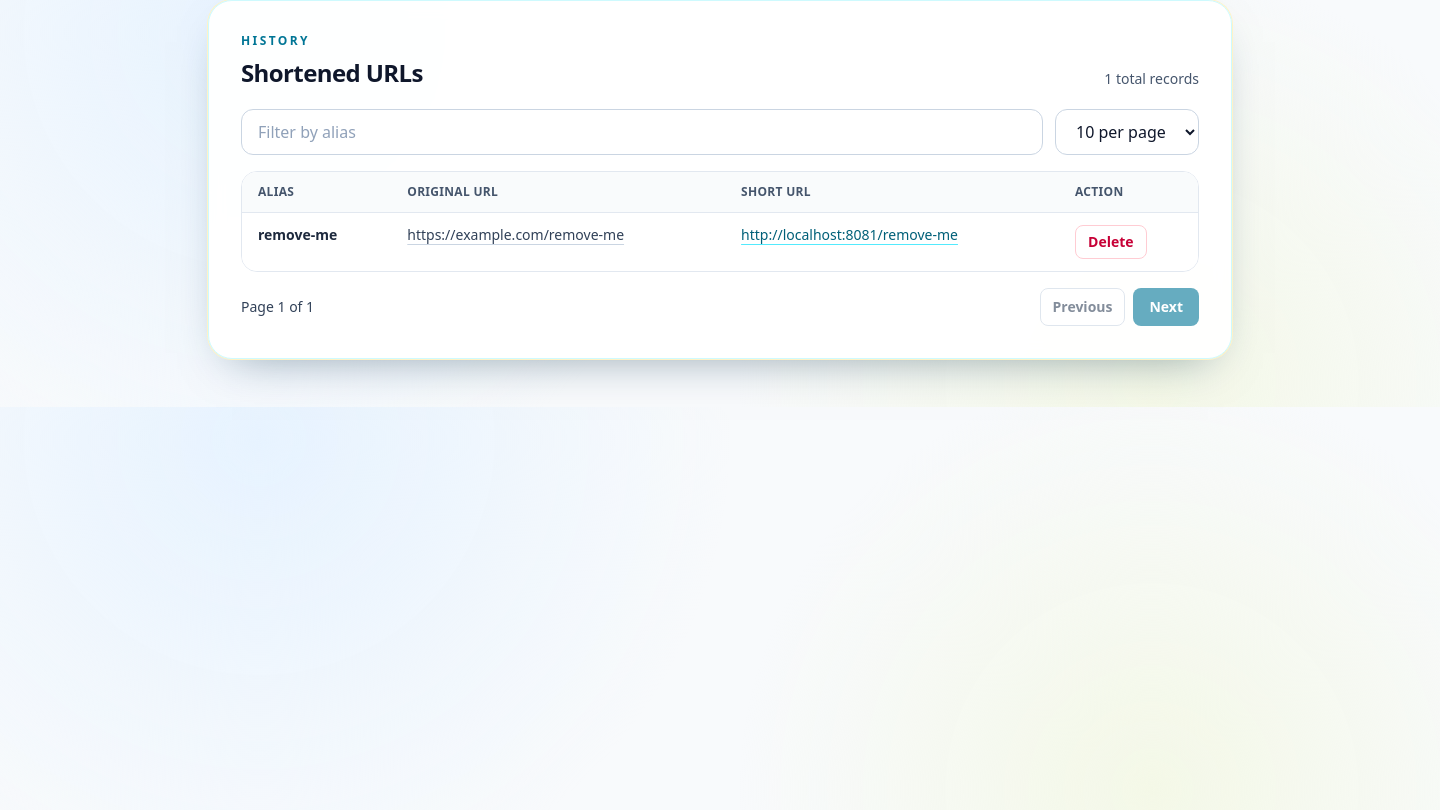
Test: UrlList integration › opens delete dialog and sends delete request on confirmation
Expected: the text "remove-me" is shown, [242,212,391,271]
Click the button "Delete" at (1111, 242), box [1075,225,1146,259]
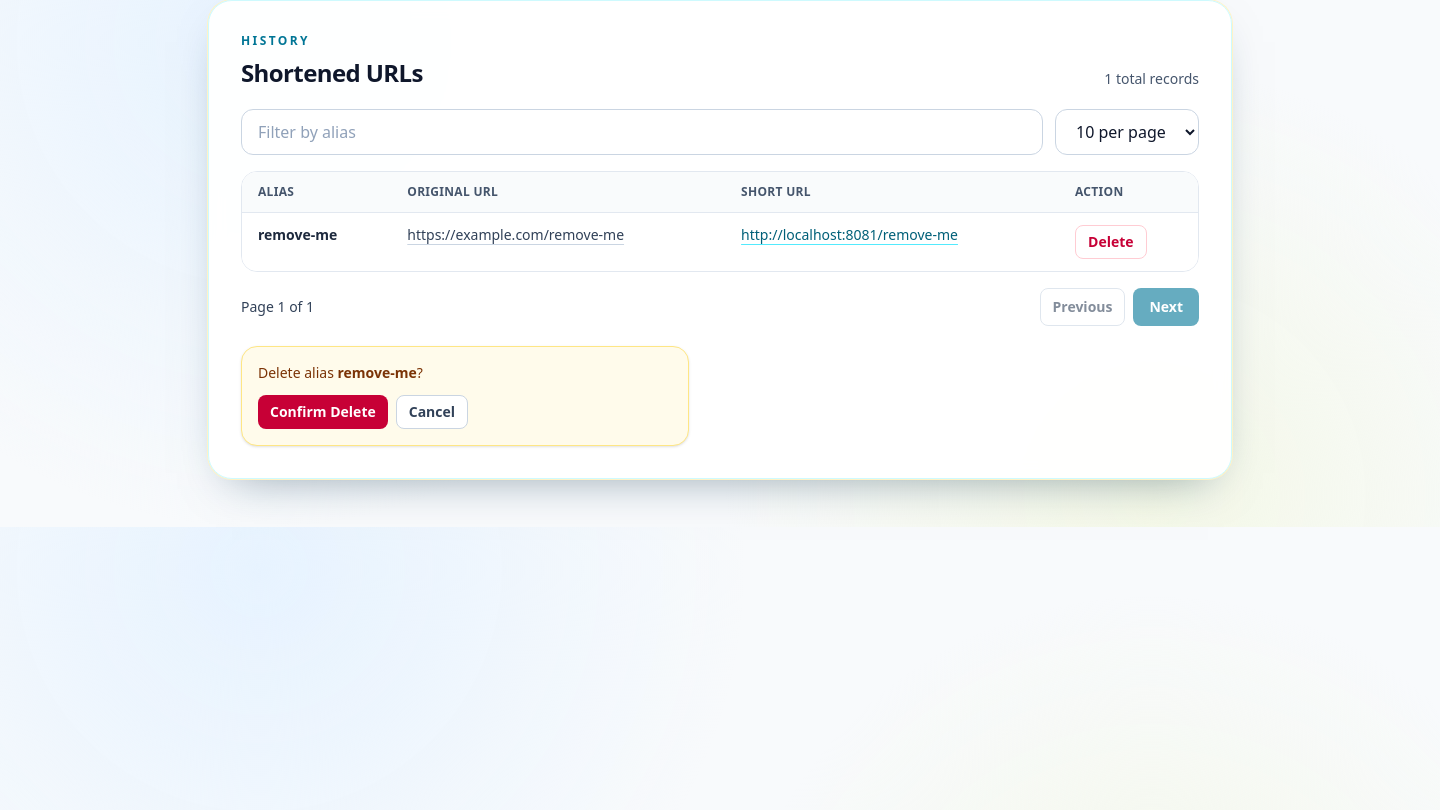
Click the button "Confirm Delete" at (323, 412), box [258,395,388,429]
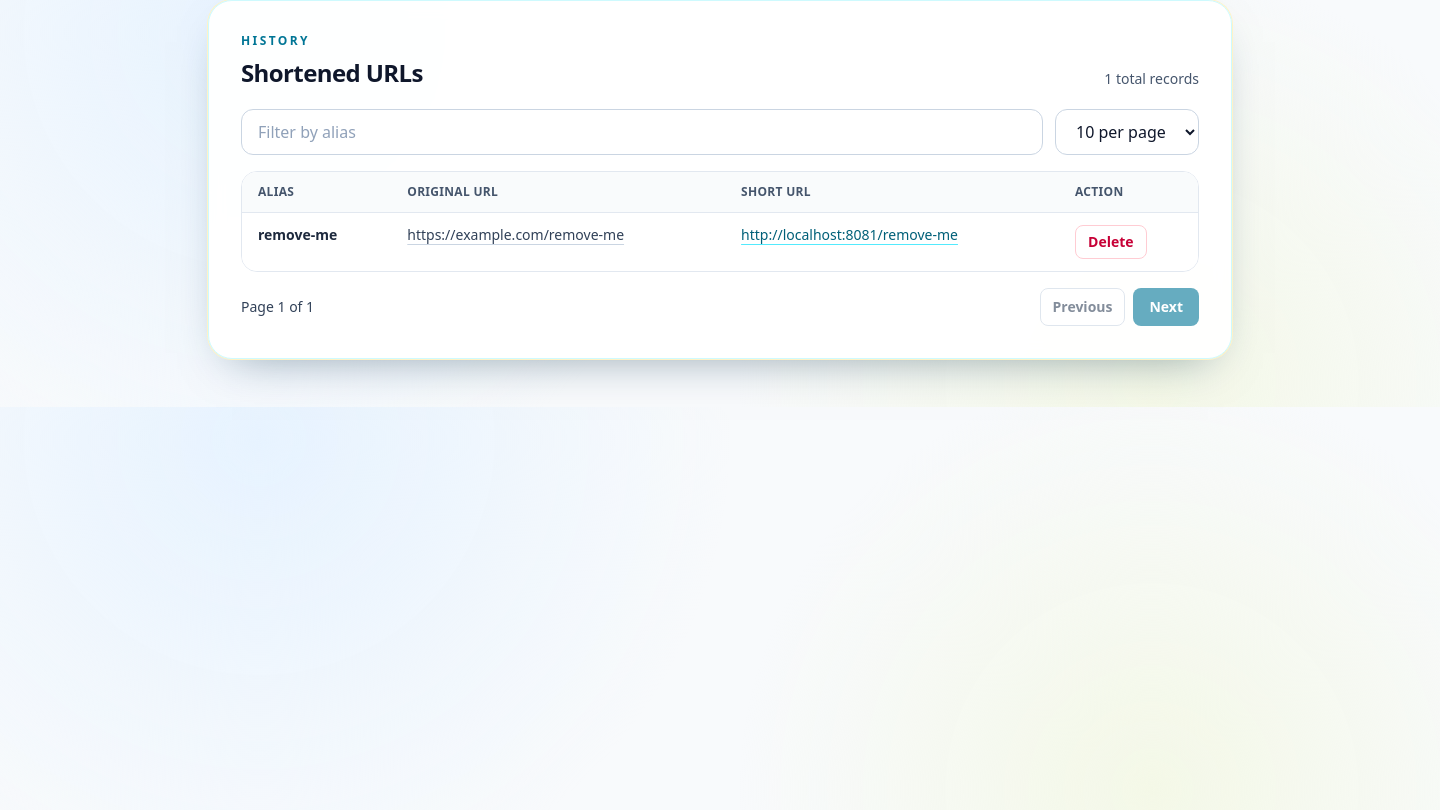
Expected: the dialog is gone
